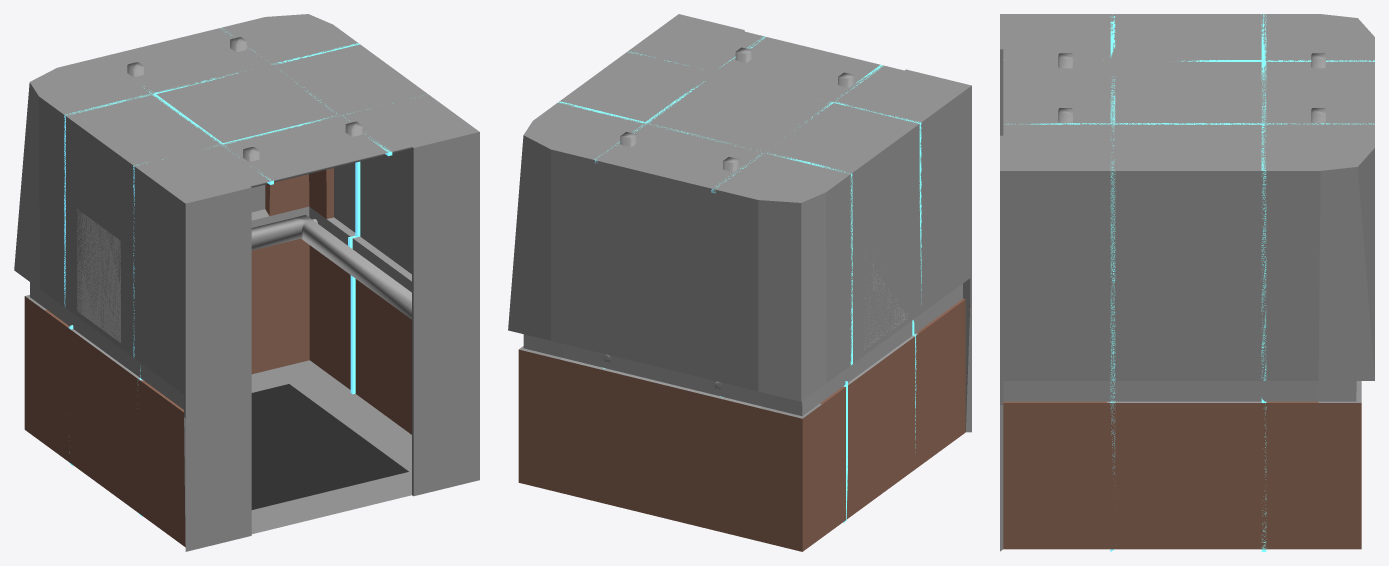
Rendered from Elevator.fbx.
3 renders of one model, left to right at view 1: azimuth 30°, elevation 25°; view 2: azimuth 150°, elevation 25°; view 3: azimuth 270°, elevation 25°, orthographic. The views are drawn at different scales.
Parts seen in each view (by area): view 1: Elevator, Poster, Railing, Lights; view 2: Elevator, Lights; view 3: Elevator, Lights.
Part boxes in pixels (x1,y1,x2,y2): Elevator: [14, 14, 479, 551]; Poster: [77, 209, 120, 342]; Railing: [251, 215, 411, 319]; Lights: [64, 28, 427, 516]; Elevator: [508, 14, 971, 551]; Lights: [558, 36, 921, 522]; Elevator: [1000, 14, 1374, 551]; Lights: [1004, 14, 1374, 551].
Size of the model in its own units: 200 by 234 by 202.
